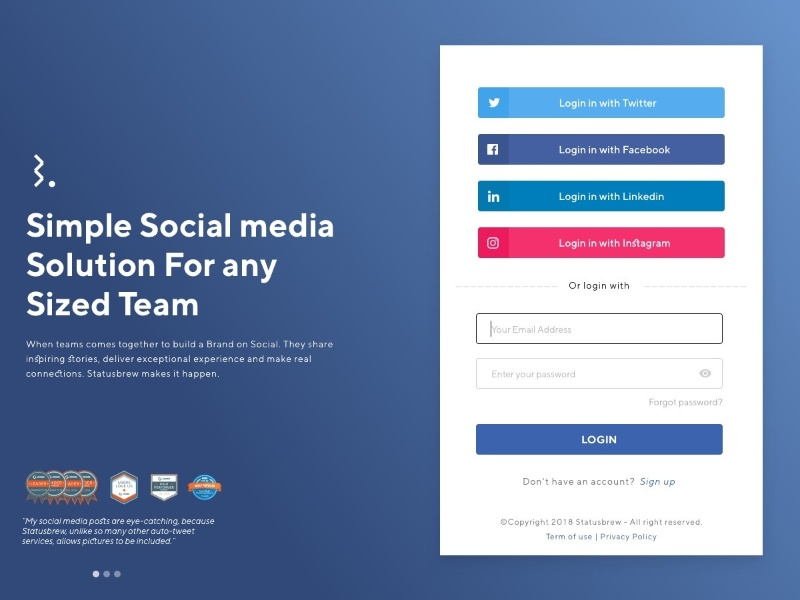button: (478, 227, 725, 260), (476, 86, 725, 118), (475, 424, 724, 456), (478, 134, 725, 165), (478, 180, 726, 210)
input: (475, 312, 723, 345), (475, 357, 724, 389)
